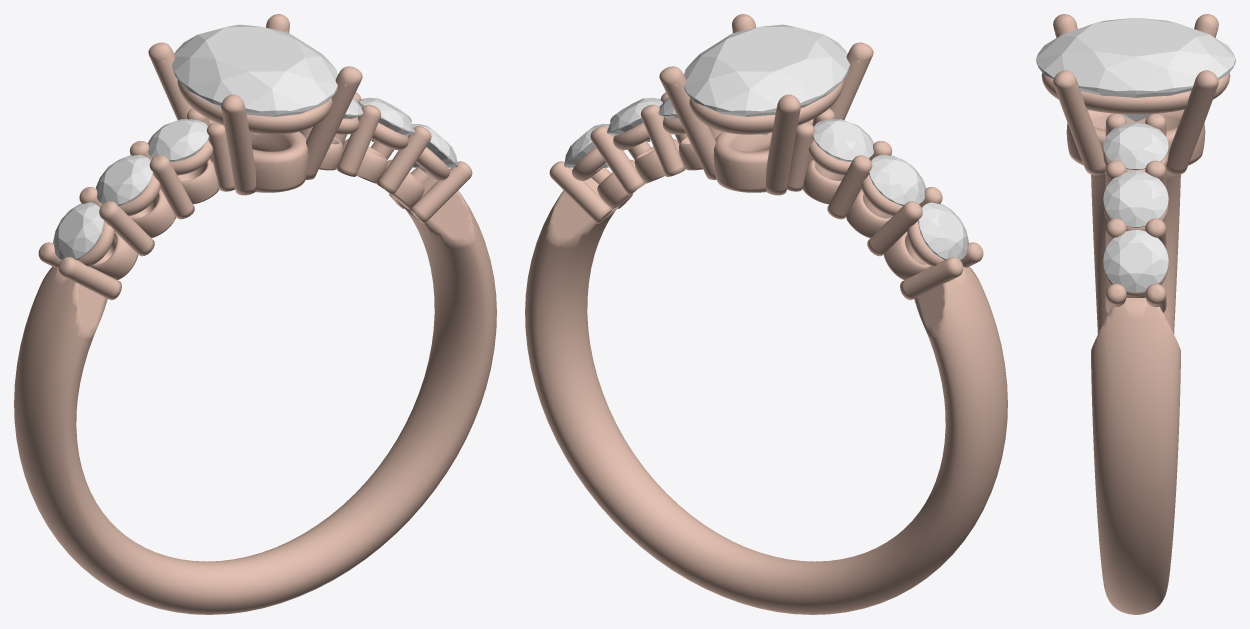
The model's file is diamond-oval-rosegold-4prong-taperedband-7stone.glb.
3 views of the same model, side by side, from view 1: azimuth 30°, elevation 25°; view 2: azimuth 150°, elevation 25°; view 3: azimuth 270°, elevation 25° (orthographic).
Visible parts, largest first — view 1: metal, stone, side, side.001, side.002, side.004, side.003; view 2: metal, stone, side, side.001, side.002, side.004, side.003; view 3: metal, stone, side.003, side.004, side.005.
Part boxes in pixels (bbox=[...]): metal: bbox=[14, 14, 496, 614]; stone: bbox=[172, 24, 337, 134]; side: bbox=[53, 202, 103, 259]; side.001: bbox=[96, 155, 153, 205]; side.002: bbox=[147, 119, 209, 161]; side.004: bbox=[359, 97, 414, 141]; side.003: bbox=[412, 124, 457, 167]; metal: bbox=[525, 14, 1007, 614]; stone: bbox=[684, 24, 849, 134]; side: bbox=[918, 202, 968, 259]; side.001: bbox=[868, 155, 925, 205]; side.002: bbox=[812, 119, 874, 161]; side.004: bbox=[607, 97, 662, 141]; side.003: bbox=[564, 124, 609, 167]; metal: bbox=[1041, 14, 1230, 614]; stone: bbox=[1036, 17, 1235, 121]; side.003: bbox=[1103, 230, 1168, 292]; side.004: bbox=[1103, 171, 1168, 227]; side.005: bbox=[1103, 122, 1168, 170].
Bounding box in the file's own units: 20.48 × 23.4 × 7.64.
